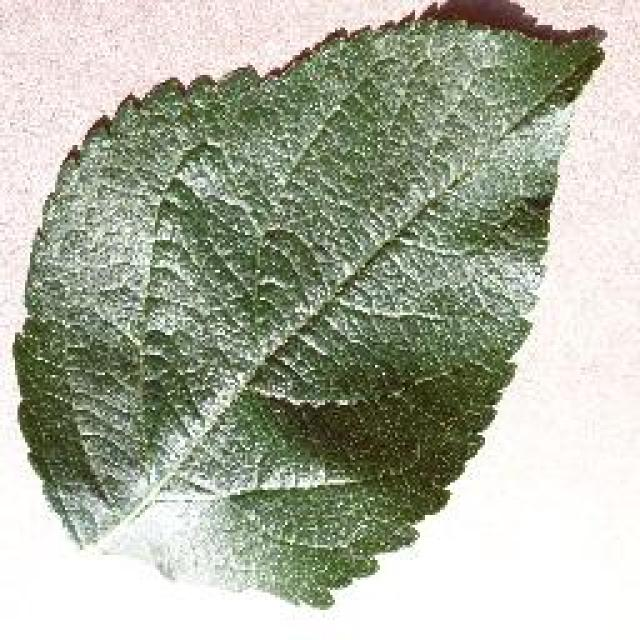apple healthy: (10, 0, 608, 610)
